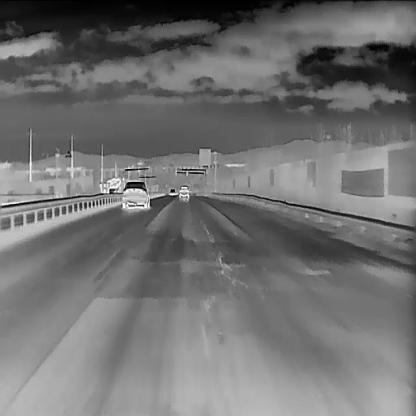car: (121, 180, 150, 207), (98, 176, 122, 197), (178, 185, 190, 198), (169, 188, 176, 195)
